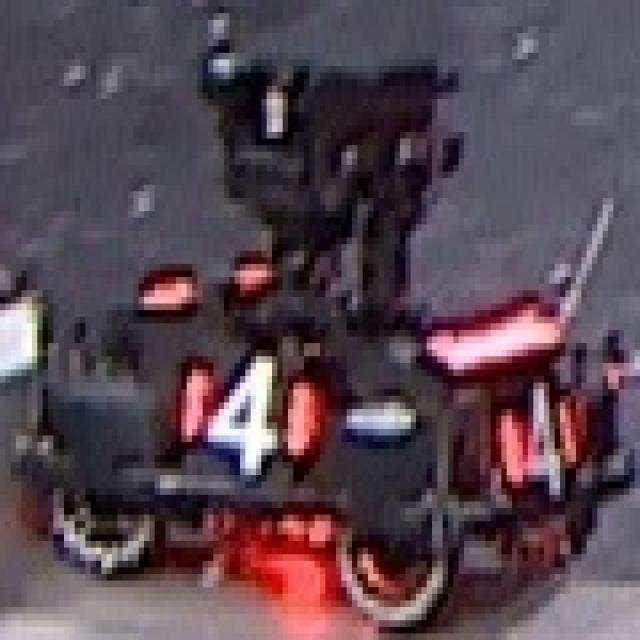R4: (154, 340, 330, 465), (464, 366, 592, 498)
